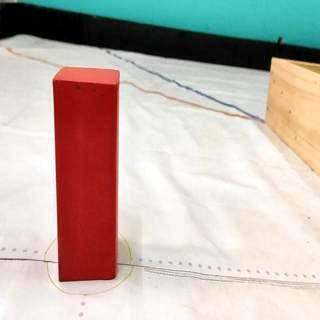redbox: (53, 65, 119, 284)
